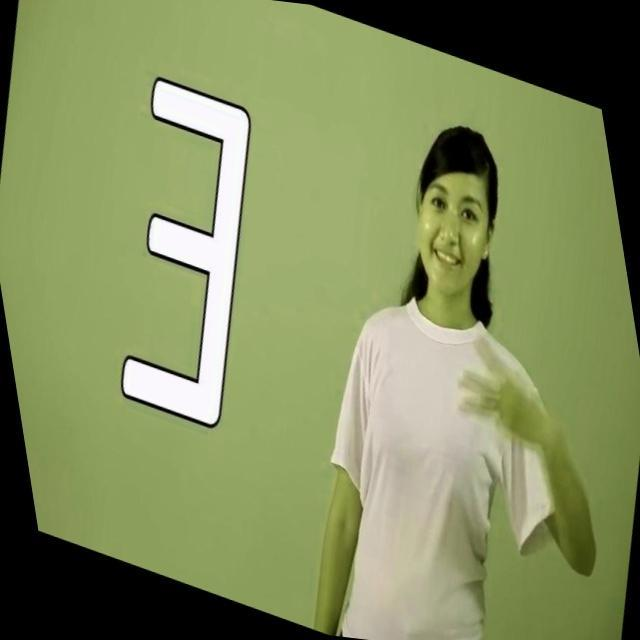E: (455, 333, 570, 477)
